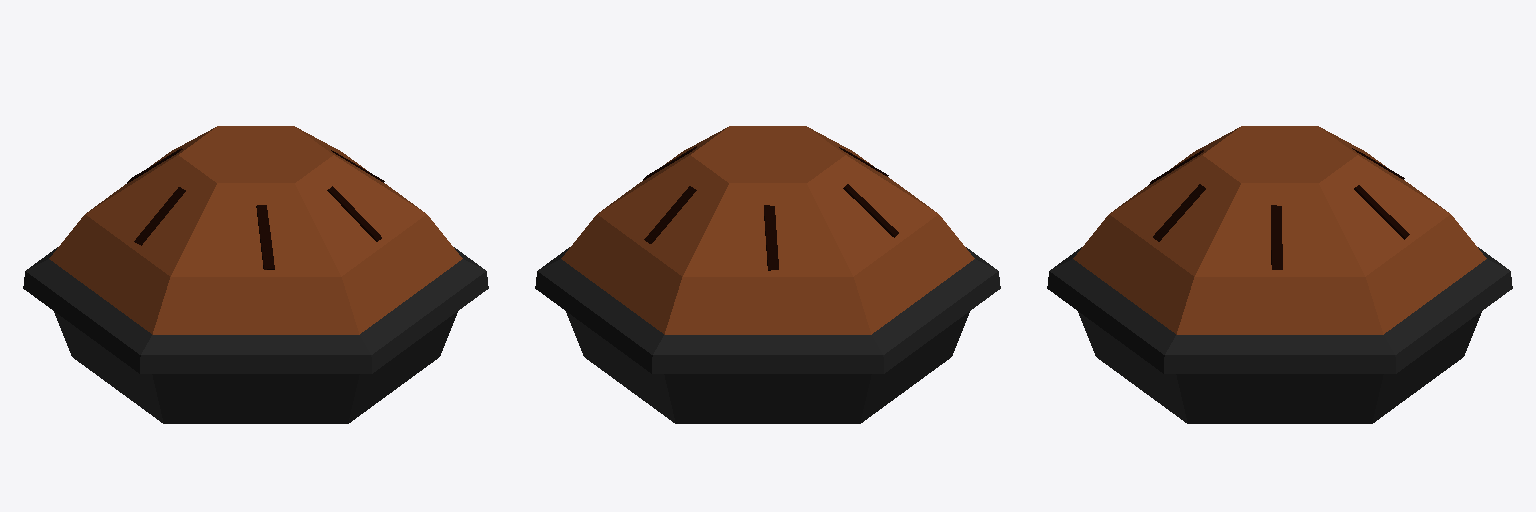
File: Pie.obj
3 renders of one model, left to right at view 1: azimuth 30°, elevation 25°; view 2: azimuth 150°, elevation 25°; view 3: azimuth 270°, elevation 25°, orthographic.
Parts seen in each view (by area): view 1: Pie_Circle; view 2: Pie_Circle; view 3: Pie_Circle.
Part boxes in pixels (left/top/right/bottom): Pie_Circle: left=23, top=126, right=488, bottom=423; Pie_Circle: left=535, top=126, right=1000, bottom=423; Pie_Circle: left=1047, top=126, right=1512, bottom=423.
Size of the model in its own units: 0.9404 by 0.5203 by 1.09.